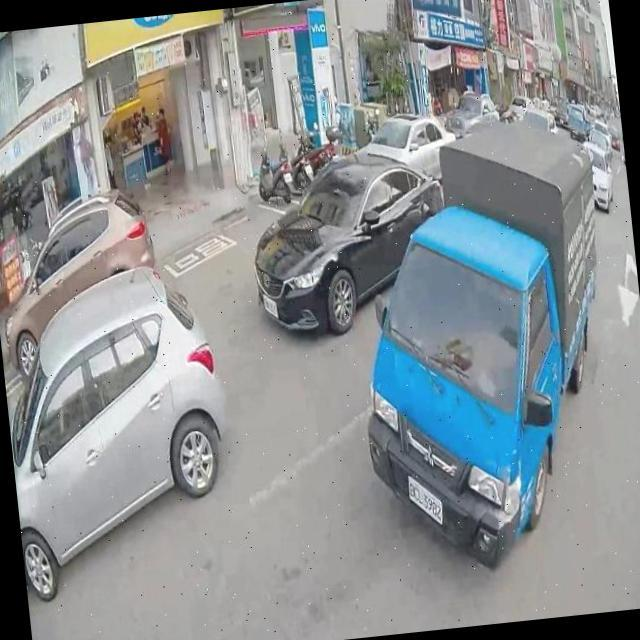person: (152, 102, 174, 174)
